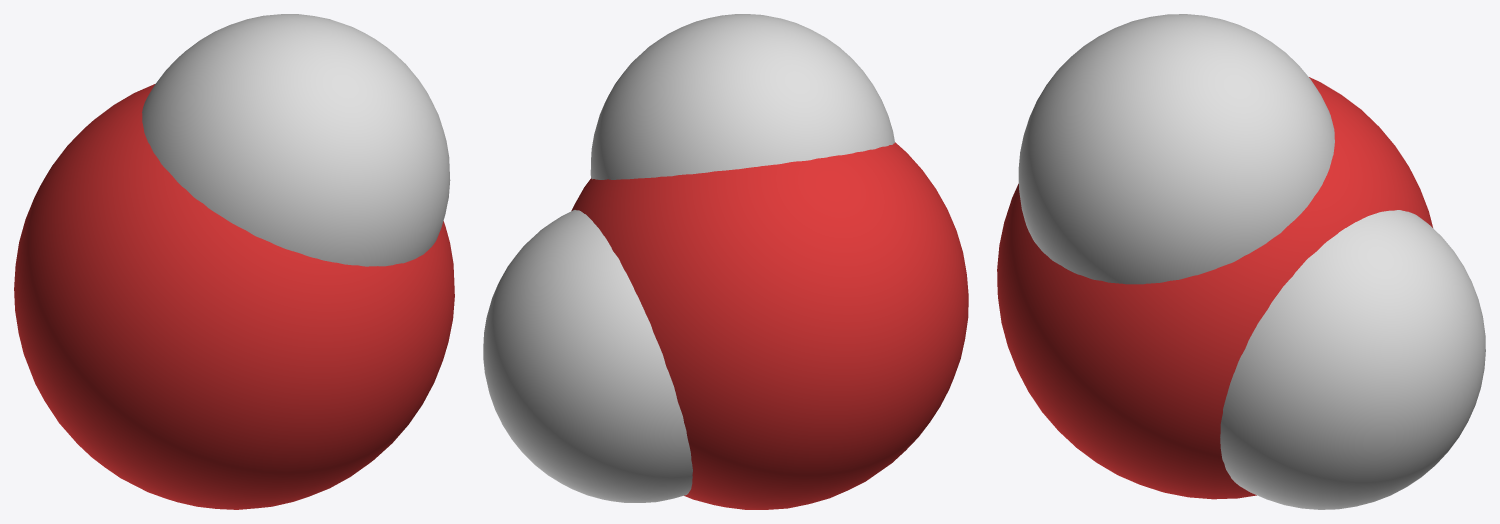
Rendered from 962-CPK-color-print_NIH3D.glb.
3 renders of one model, left to right at view 1: azimuth 30°, elevation 25°; view 2: azimuth 150°, elevation 25°; view 3: azimuth 270°, elevation 25°, orthographic. The views are drawn at different scales.
Parts seen in each view (by area): view 1: atoms; view 2: atoms; view 3: atoms.
Boxes of the visible parts, box(x1,y1,x2,y2) form: atoms: box(14, 14, 454, 509); atoms: box(483, 14, 968, 509); atoms: box(997, 14, 1485, 509).
Bounding box in the file's own units: 3.2 × 3.49 × 3.31.
